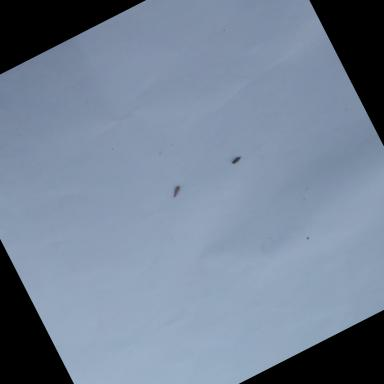pbw: (167, 183, 186, 201)
